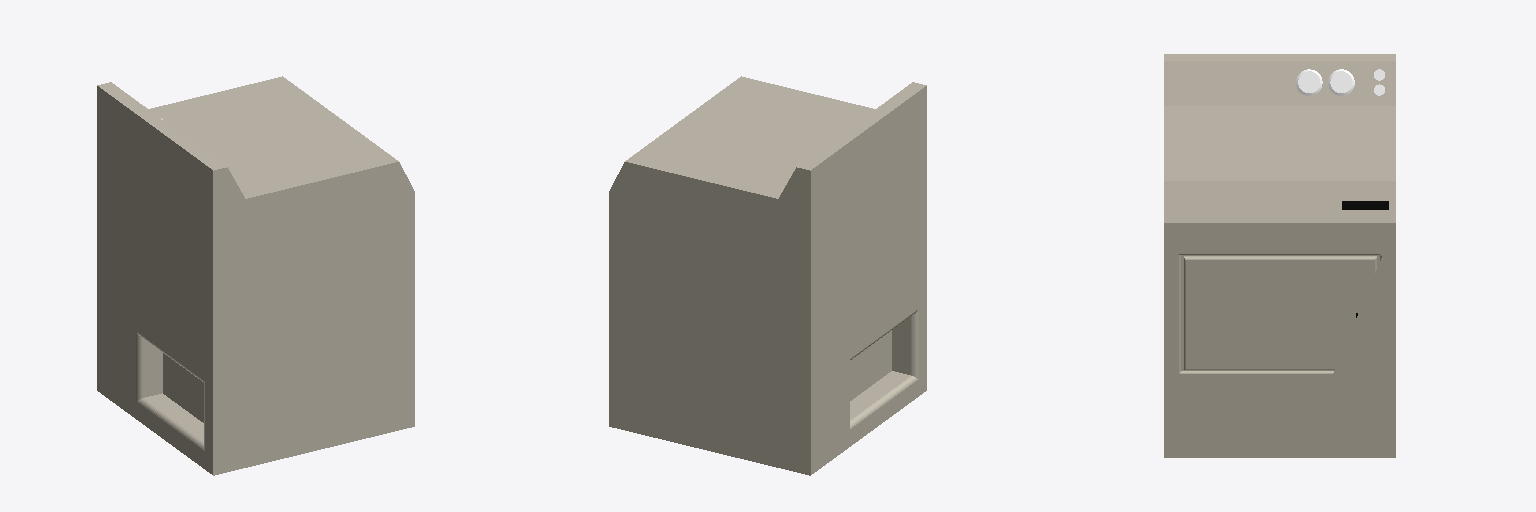
File: drier.obj
3 views of the same model, side by side, from view 1: azimuth 30°, elevation 25°; view 2: azimuth 150°, elevation 25°; view 3: azimuth 270°, elevation 25° (orthographic).
Visible parts, largest first — view 1: Plane; view 2: Plane; view 3: Plane.
Boxes of the visible parts, <box> form: Plane: <box>97,76,414,475</box>; Plane: <box>609,76,926,475</box>; Plane: <box>1164,54,1395,457</box>.
Bounding box in the file's own units: 0.686 × 0.9924 × 0.686.